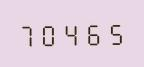five: (102, 19, 122, 46)
four: (60, 20, 80, 46)
seven: (18, 20, 38, 47)
six: (81, 19, 101, 46)
zero: (39, 20, 59, 47)
